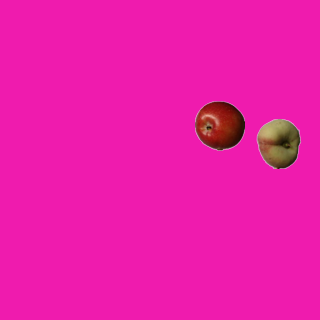Apple Braeburn: (194, 100, 244, 150)
Peach Flat: (253, 118, 303, 168)
